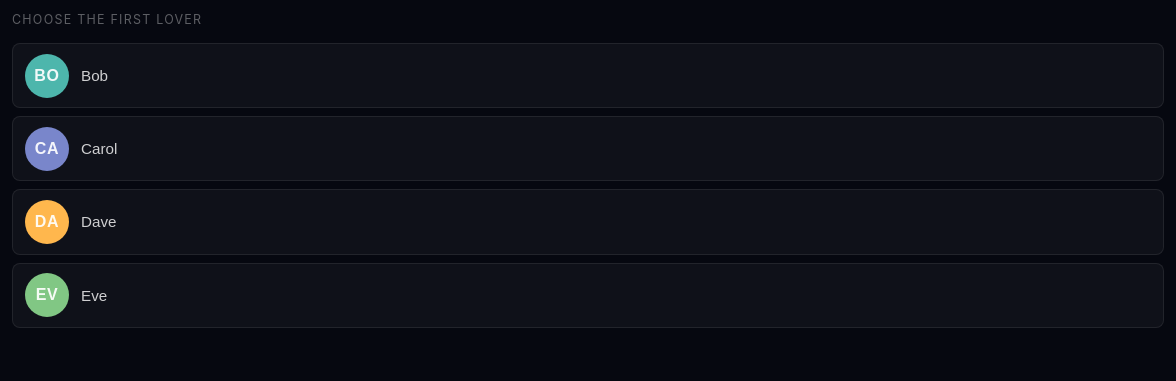
Scenario: CupidUI › selecting first lover advances to step 2 with updated header
This screenshot has width=1176, height=381.
What coordinates should you click on to do the following:
click the text "Bob"
I would click on:
 (94, 76)
Its box is [81,67,108,84].
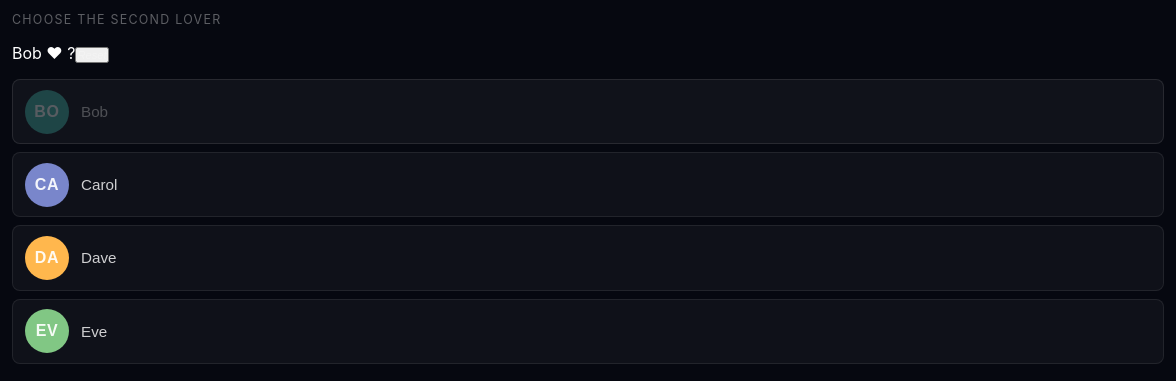
Expected: the text "Choose the second lover" is shown, [12,12,221,27]
